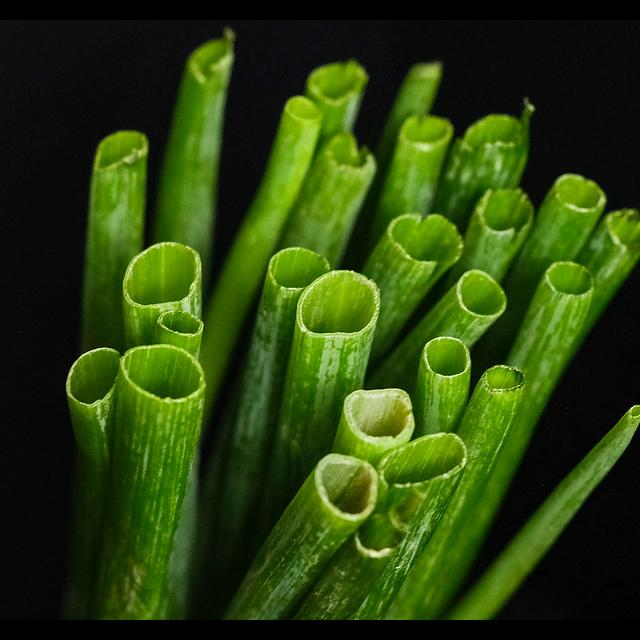green_onion: (64, 31, 640, 620)
